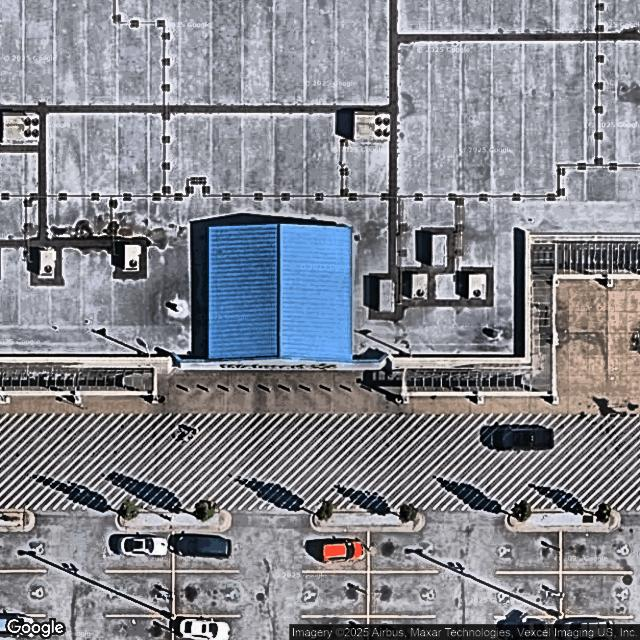car: (174, 531, 232, 558), (558, 616, 616, 640), (320, 539, 367, 565), (117, 534, 169, 557), (176, 619, 232, 640), (497, 617, 548, 640), (1, 610, 36, 638)
lot_boundary: (0, 530, 639, 639)
stall: (107, 572, 174, 616), (368, 572, 435, 616), (497, 573, 561, 618), (560, 573, 624, 618), (173, 573, 238, 616), (368, 531, 436, 572), (305, 572, 368, 616), (107, 532, 173, 572), (173, 532, 239, 572), (304, 532, 367, 573), (497, 530, 560, 571), (561, 532, 624, 572), (0, 571, 46, 615), (0, 532, 46, 571), (105, 616, 171, 640), (304, 616, 368, 640), (369, 616, 433, 640), (173, 617, 239, 640), (559, 616, 622, 640), (498, 617, 559, 640), (2, 616, 46, 639)
